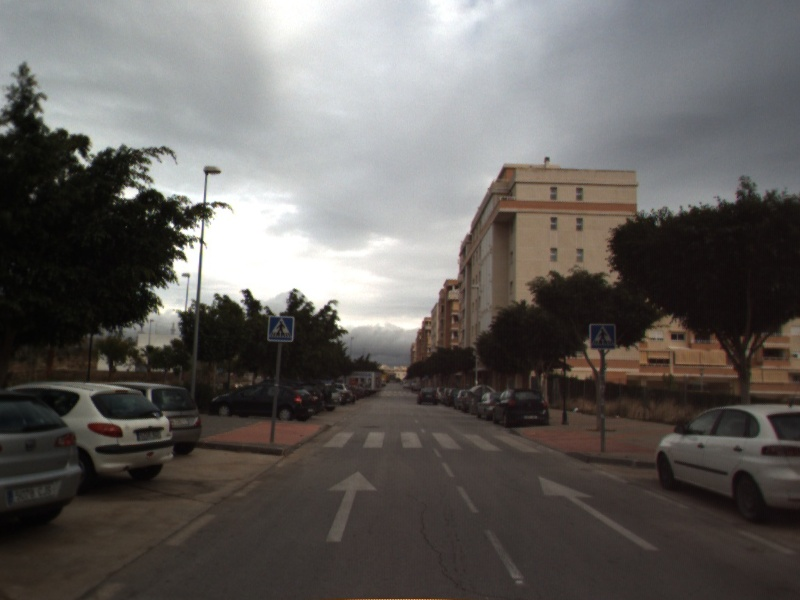STRAIGHT: (536, 474, 661, 552), (323, 469, 380, 544)
